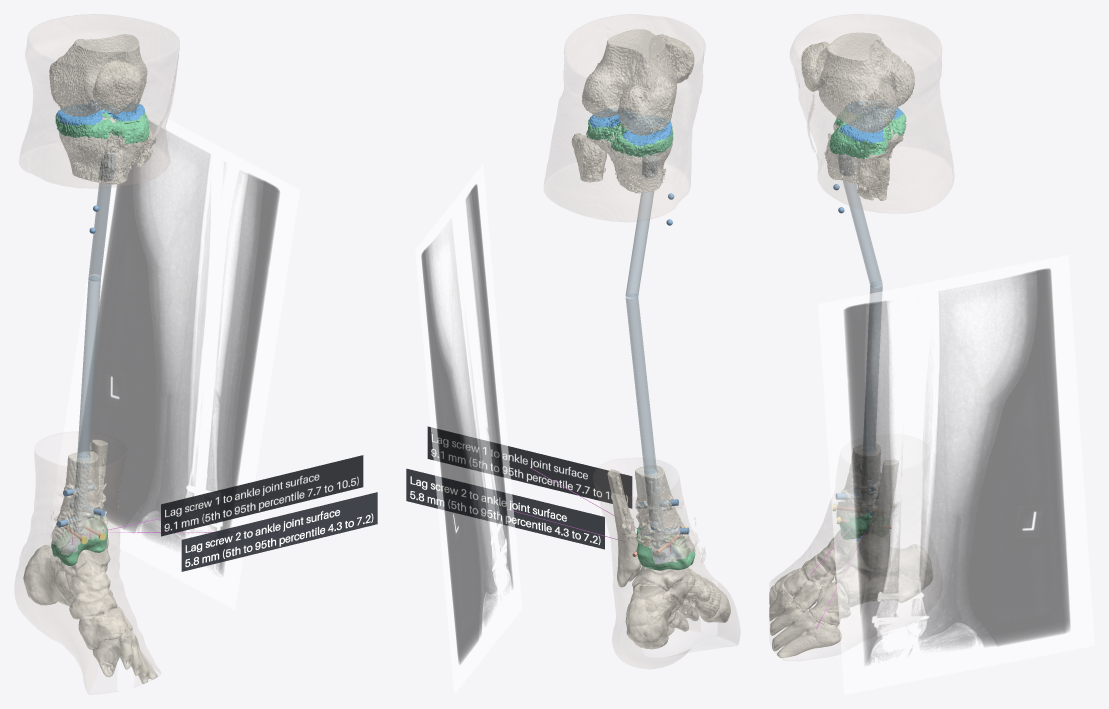
File: 2022-06-27_102735_lat.glb
The picture shows the model from 3 angles, left to right: view 1: azimuth 30°, elevation 25°; view 2: azimuth 150°, elevation 25°; view 3: azimuth 270°, elevation 25°; orthographic projection.
Parts seen in each view (by area): view 1: radiograph, skin, implant_8, tibia, implant_16, tarsal, femur, nail_modelled, patella, metatarsal, capsule_band_knee, nail (+3 smaller); view 2: radiograph, skin, femur, implant_17, implant_9, tibia, tarsal, nail_modelled, fibula, articular_surface_knee, capsule_band_knee, nail (+3 smaller); view 3: radiograph, skin, tarsal, femur, fibula, tibia, nail_modelled, metatarsal, capsule_band_knee, articular_surface_knee, patella, nail (+1 smaller).
Part boxes in pixels (box(x1,y1,x2,y2)): radiograph: box(51, 106, 299, 609); skin: box(15, 14, 179, 692); implant_8: box(161, 455, 363, 536); tibia: box(51, 112, 147, 555); implant_16: box(181, 492, 377, 571); tarsal: box(23, 541, 132, 650); femur: box(49, 34, 147, 116); nail_modelled: box(77, 183, 111, 458); patella: box(92, 60, 143, 114); metatarsal: box(92, 628, 157, 683); capsule_band_knee: box(55, 104, 149, 144); nail: box(73, 149, 115, 535); radiograph: box(415, 164, 522, 694); skin: box(544, 14, 739, 668); femur: box(582, 29, 676, 135); implant_17: box(406, 468, 604, 549); implant_9: box(427, 426, 632, 508); tibia: box(586, 120, 695, 569); tarsal: box(625, 548, 720, 649); nail_modelled: box(625, 191, 656, 474); fibula: box(571, 133, 641, 587); articular_surface_knee: box(588, 108, 672, 146); capsule_band_knee: box(586, 114, 673, 157); nail: box(642, 153, 664, 548); radiograph: box(818, 255, 1094, 694); skin: box(770, 14, 953, 644); tarsal: box(774, 530, 932, 625); femur: box(817, 32, 915, 132); fibula: box(857, 157, 898, 571); tibia: box(824, 123, 904, 539); nail_modelled: box(843, 180, 882, 451); metatarsal: box(769, 584, 841, 657); capsule_band_knee: box(829, 109, 906, 159); articular_surface_knee: box(840, 101, 903, 143); patella: box(801, 41, 829, 91); nail: box(838, 154, 874, 515).
Bounding box in the file's own units: 0.2864 × 0.5338 × 0.2578.
15 materials, 3 textured.
